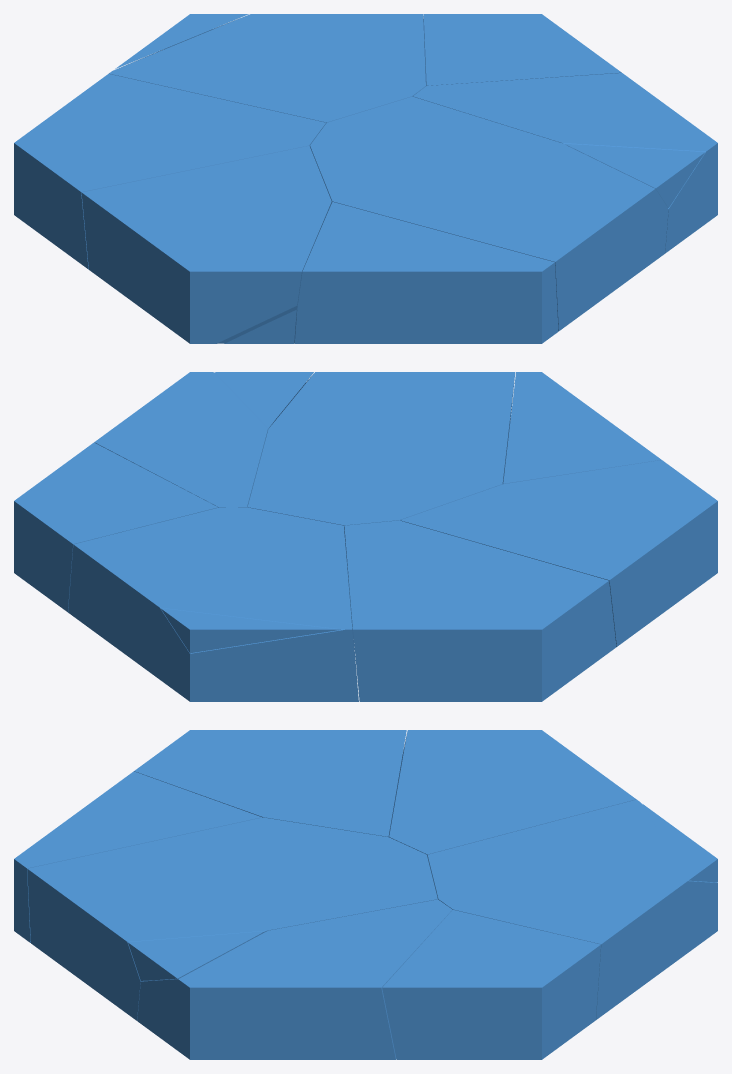
Rendered from bluefractured.fbx.
The picture shows the model from 3 angles, top to bottom: view 1: azimuth 30°, elevation 25°; view 2: azimuth 150°, elevation 25°; view 3: azimuth 270°, elevation 25°; orthographic projection.
Visible parts, largest first — view 1: Cylinder_cell.013, Cylinder_cell.016, Cylinder_cell.018, Cylinder_cell.017, Cylinder_cell.012, Cylinder_cell.010, Cylinder_cell.019, Cylinder_cell.014, Cylinder_cell.015, Cylinder_cell.011; view 2: Cylinder_cell.012, Cylinder_cell.017, Cylinder_cell.013, Cylinder_cell.016, Cylinder_cell.019, Cylinder_cell.010, Cylinder_cell.018, Cylinder_cell.015, Cylinder_cell.014; view 3: Cylinder_cell.013, Cylinder_cell.012, Cylinder_cell.010, Cylinder_cell.019, Cylinder_cell.017, Cylinder_cell.016, Cylinder_cell.018, Cylinder_cell.014, Cylinder_cell.015.
Boxes of the visible parts, <box> form: Cylinder_cell.013: <box>310,96,668,330</box>; Cylinder_cell.016: <box>81,145,331,343</box>; Cylinder_cell.018: <box>294,202,558,343</box>; Cylinder_cell.017: <box>14,74,326,269</box>; Cylinder_cell.012: <box>109,14,426,122</box>; Cylinder_cell.010: <box>413,73,717,253</box>; Cylinder_cell.019: <box>423,14,621,85</box>; Cylinder_cell.014: <box>564,143,705,207</box>; Cylinder_cell.015: <box>115,14,248,68</box>; Cylinder_cell.011: <box>224,310,296,343</box>; Cylinder_cell.012: <box>68,507,358,701</box>; Cylinder_cell.017: <box>344,520,616,701</box>; Cylinder_cell.013: <box>247,372,515,580</box>; Cylinder_cell.016: <box>400,460,717,646</box>; Cylinder_cell.019: <box>14,442,218,612</box>; Cylinder_cell.010: <box>94,372,274,507</box>; Cylinder_cell.018: <box>503,372,661,483</box>; Cylinder_cell.015: <box>160,608,340,653</box>; Cylinder_cell.014: <box>215,372,313,427</box>; Cylinder_cell.013: <box>27,817,437,1020</box>; Cylinder_cell.012: <box>427,799,717,1019</box>; Cylinder_cell.010: <box>137,899,452,1059</box>; Cylinder_cell.019: <box>382,910,600,1059</box>; Cylinder_cell.017: <box>388,730,636,855</box>; Cylinder_cell.016: <box>134,730,406,836</box>; Cylinder_cell.018: <box>14,771,261,942</box>; Cylinder_cell.014: <box>128,931,264,980</box>; Cylinder_cell.015: <box>643,804,717,882</box>.
Bounding box in the file's own units: 173 × 22.6 × 200.
